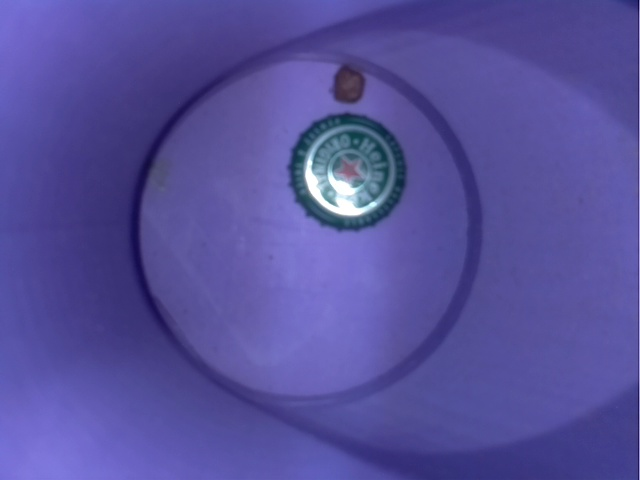capsule: (280, 100, 415, 237)
croquette: (325, 53, 373, 114)
